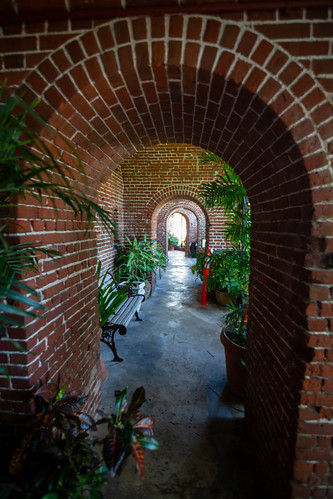bench: (81, 273, 147, 352)
tree: (207, 159, 257, 335)
vegetation: (1, 377, 160, 499)
